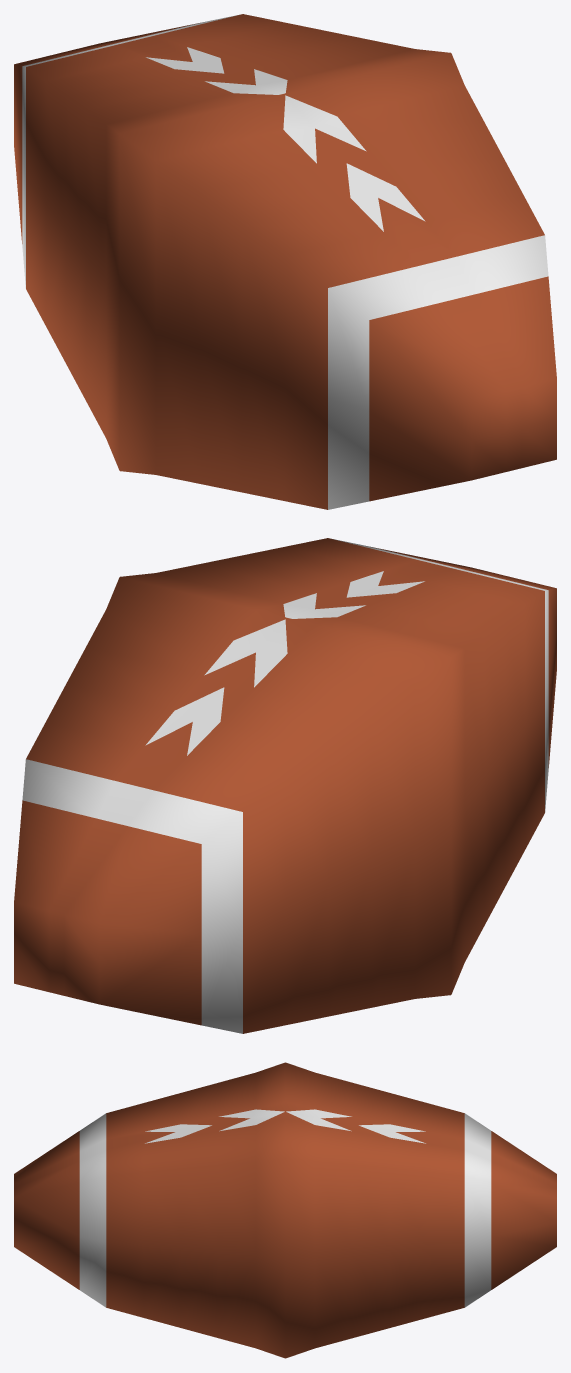
The model's file is Football.gltf.
3 views of the same model, one above another, from view 1: azimuth 30°, elevation 25°; view 2: azimuth 150°, elevation 25°; view 3: azimuth 270°, elevation 25° (orthographic). The views are drawn at different scales.
Visible parts, largest first — view 1: Cube.002; view 2: Cube.002; view 3: Cube.002.
Boxes of the visible parts, x1,y1,x2,y2 form: Cube.002: [14, 14, 556, 509]; Cube.002: [14, 538, 556, 1033]; Cube.002: [14, 1062, 556, 1358].
Bounding box in the file's own units: 0.102 × 0.0991 × 0.2437.
1 material, 1 textured.
